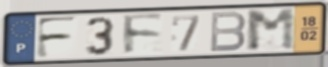3: (84, 15, 116, 56)
7: (170, 14, 202, 52)
B: (208, 10, 248, 54)
F: (34, 15, 80, 60), (121, 12, 166, 57)
M: (244, 7, 299, 53)
